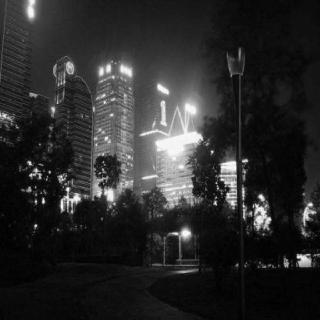other: (22, 2, 38, 24), (64, 56, 73, 78)
